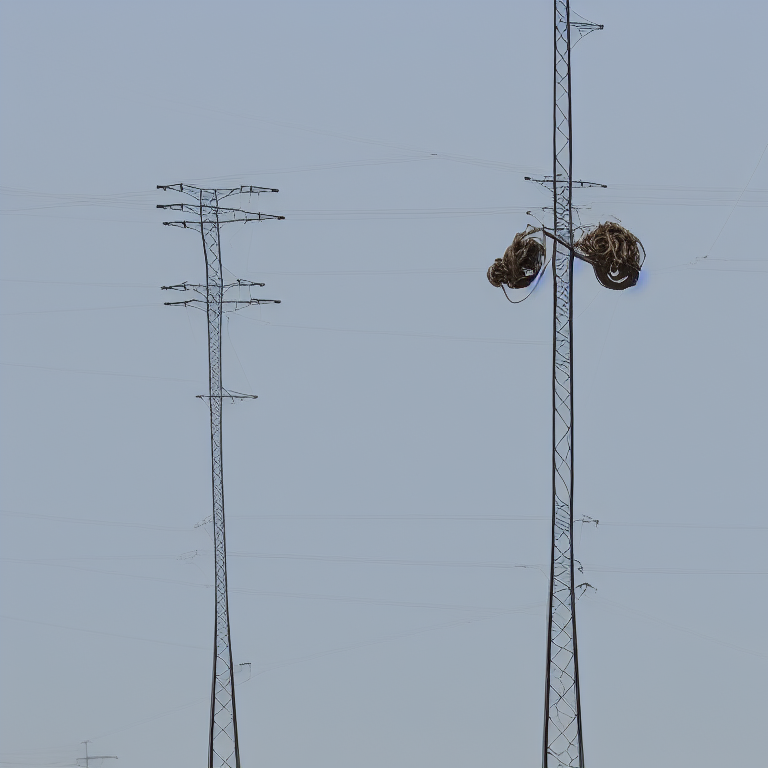nest: (581, 224, 639, 287), (491, 239, 546, 287)
